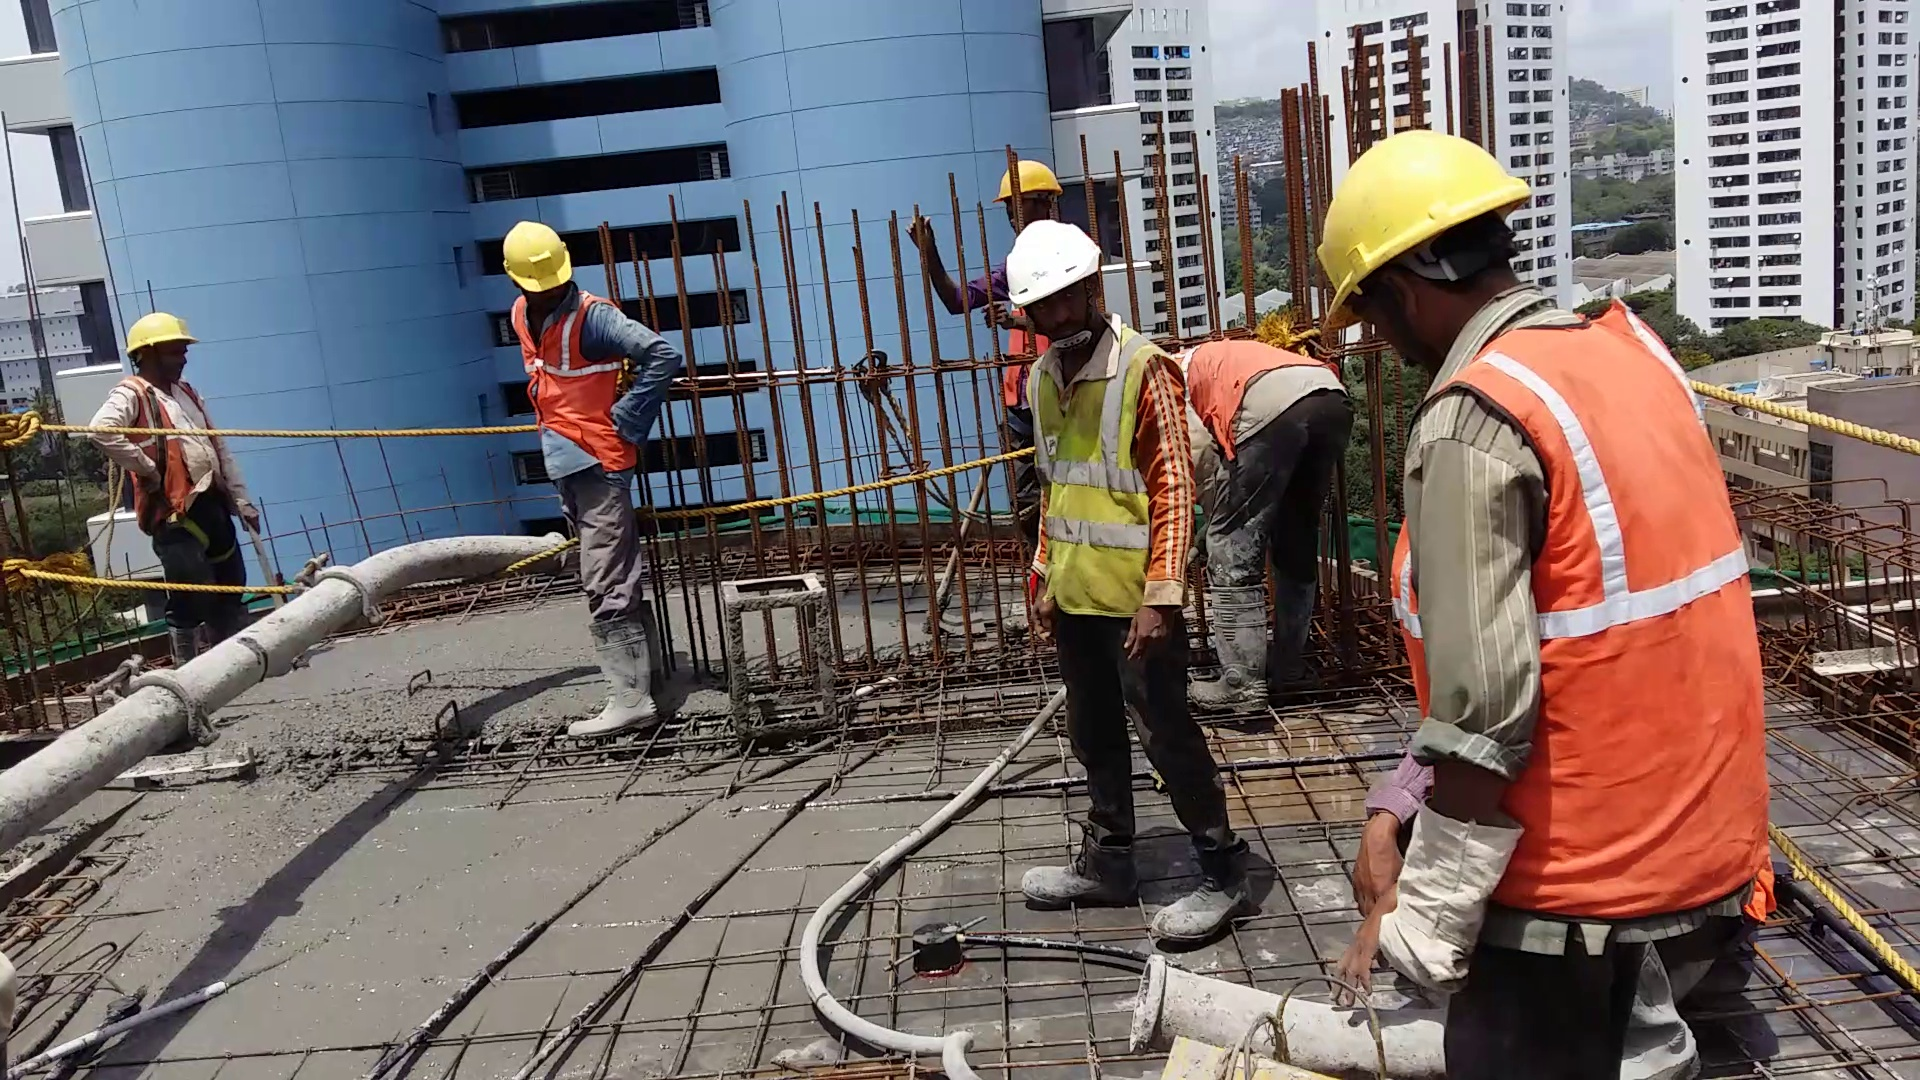SAFE: (1319, 127, 1764, 923), (1005, 214, 1178, 622), (498, 214, 618, 484), (112, 313, 223, 514)
